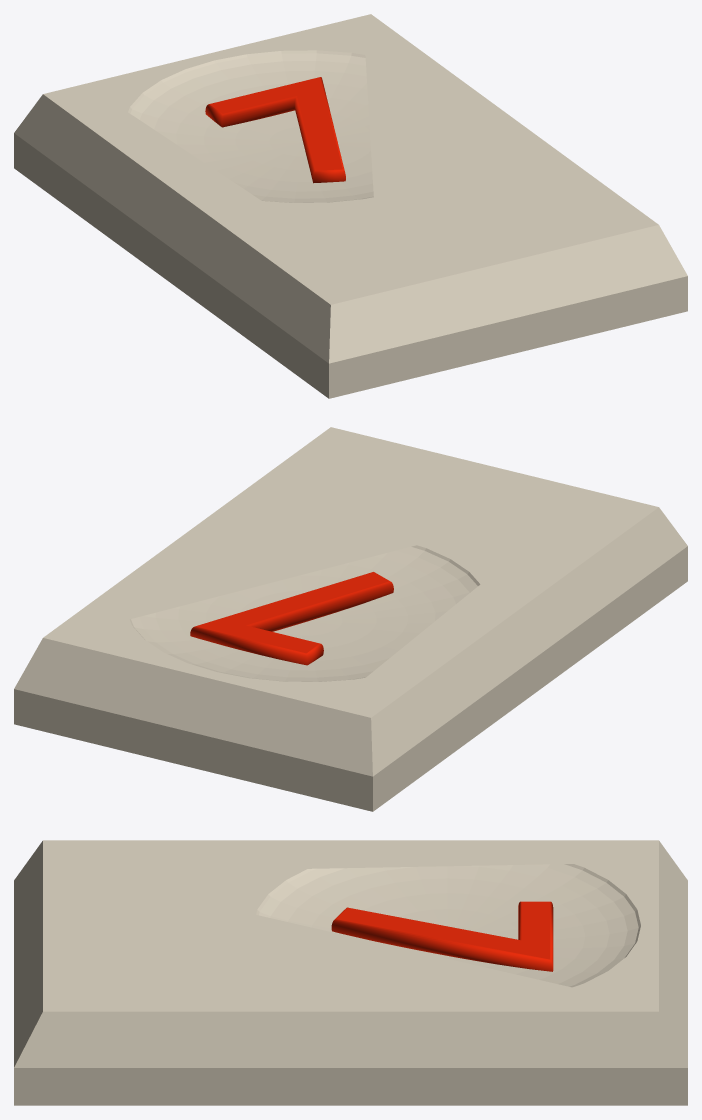
Rendered from r7_cube_tail.fbx.
3 views of the same model, one above another, from view 1: azimuth 30°, elevation 25°; view 2: azimuth 150°, elevation 25°; view 3: azimuth 270°, elevation 25° (orthographic). The views are drawn at different scales.
Parts seen in each view (by area): view 1: 큐브, 숫자; view 2: 큐브, 숫자; view 3: 큐브, 숫자.
Part boxes in pixels (x1=…): 큐브: x1=14, y1=14, x2=687, y2=398; 숫자: x1=205, y1=77, x2=345, y2=183; 큐브: x1=14, y1=427, x2=687, y2=811; 숫자: x1=190, y1=572, x2=393, y2=665; 큐브: x1=14, y1=840, x2=687, y2=1105; 숫자: x1=331, y1=901, x2=553, y2=971.
Size of the model in its own units: 500 by 107 by 760.
